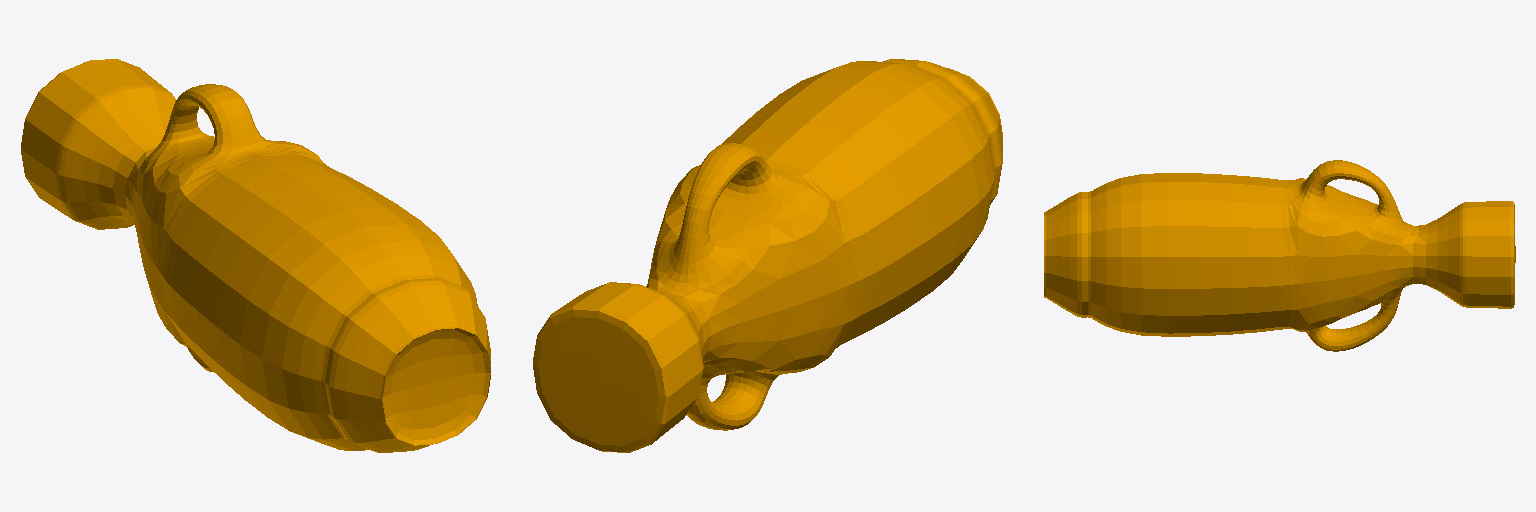
URDF robot description (29):
<?xml version="1.0" ?>
<robot name="29">
  <link name="body">
    <visual>
      <geometry>
        <mesh filename="../shapes/29.obj"/>
      </geometry>
    </visual>
    <collision>
      <geometry>
        <mesh filename="../shapes/29.obj"/>
      </geometry>
    </collision>
  </link>
</robot>

--- Render facts (derived) ---
The picture shows the robot from 3 angles, left to right: view 1: azimuth 30°, elevation 25°; view 2: azimuth 150°, elevation 25°; view 3: azimuth 270°, elevation 25°; orthographic projection.
Model 29 with 1 links and 0 joints (none), rooted at body, posed all joints at 0.
Links seen in each view (by area): view 1: body; view 2: body; view 3: body.
Link boxes in pixels (box(x1,y1,x2,y2)): body: box(21, 59, 490, 452); body: box(533, 59, 1002, 452); body: box(1044, 160, 1515, 351).
Size in the robot's own frame: 4.05 by 11.8 by 5.14 metres.
Meshes: 1 distinct files referenced, 1 mesh visuals loaded (1 OBJ).